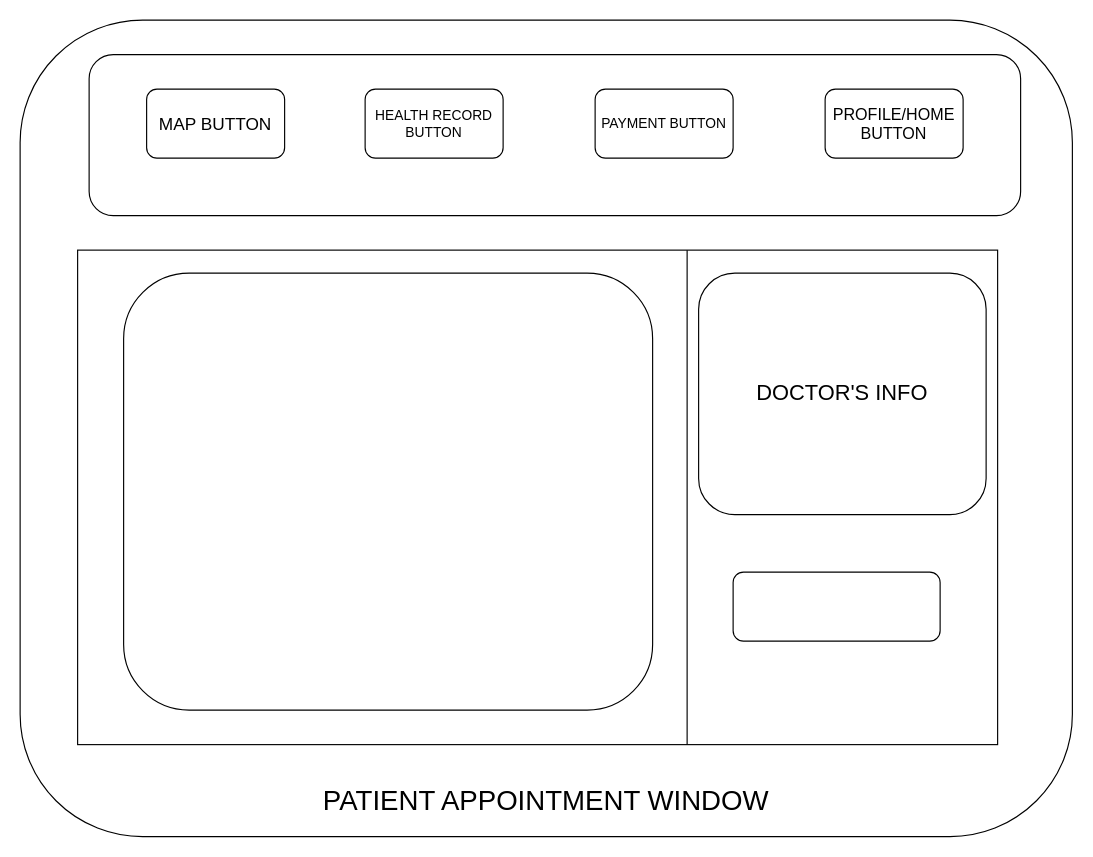
The diagram is 1093 pixels wide and 857 high, and some of its shapes have lost their labels. Here are the shapes that lost their labels. From the top down, the box of each, then its label:
(88, 53, 1021, 216): D ASHBOARD
(122, 272, 653, 710): INPUT FIELDS
(732, 571, 940, 641): MAKE APPOINTMENT
